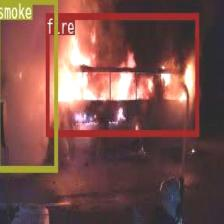fire: (45, 13, 199, 135)
smoke: (0, 0, 57, 171)
